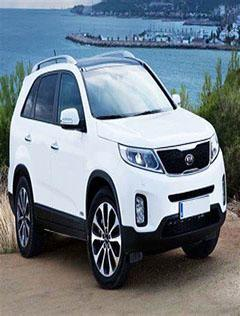car: (6, 36, 235, 292)
